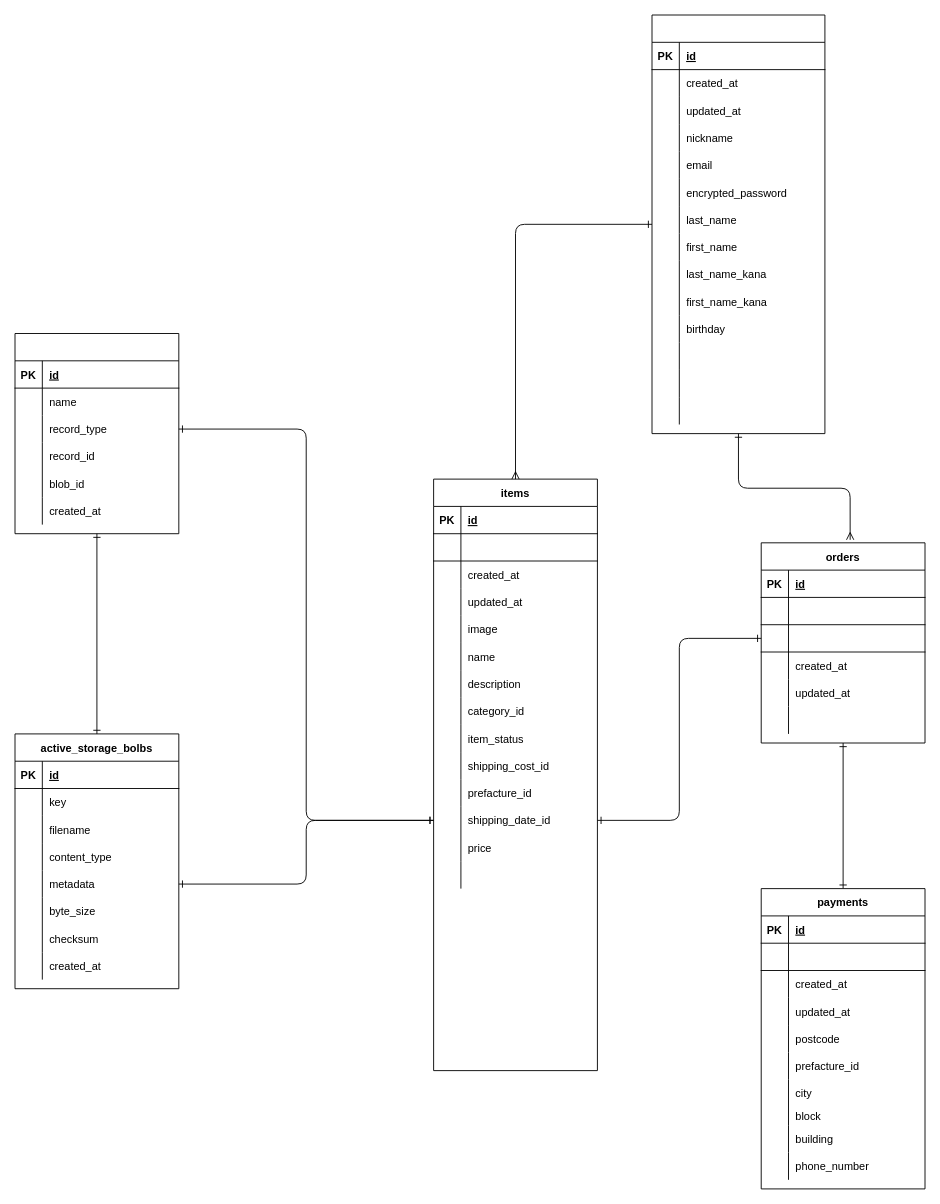
The diagram is 940 pixels wide and 1204 high, and some of its shapes have lost their labels. Here are the shapes that lost their labels. From the top down, the box of each, then its label:
(651, 14, 825, 434): users
(14, 333, 179, 534): active_storage_attachments
